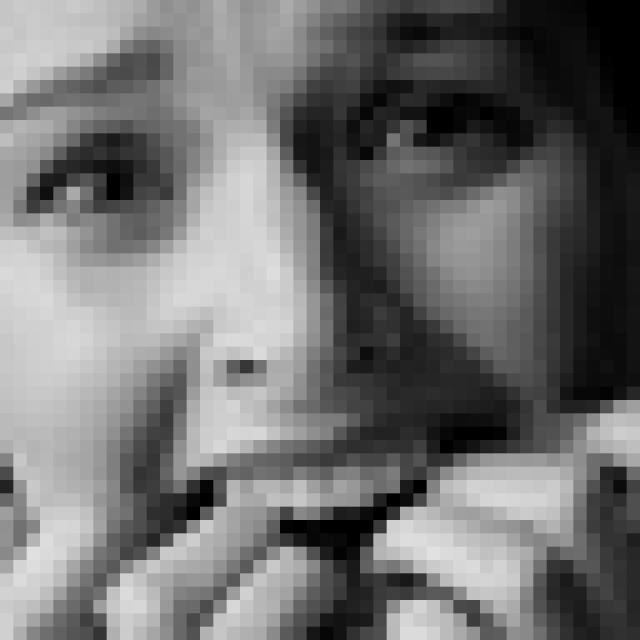fear: (0, 0, 556, 623)
